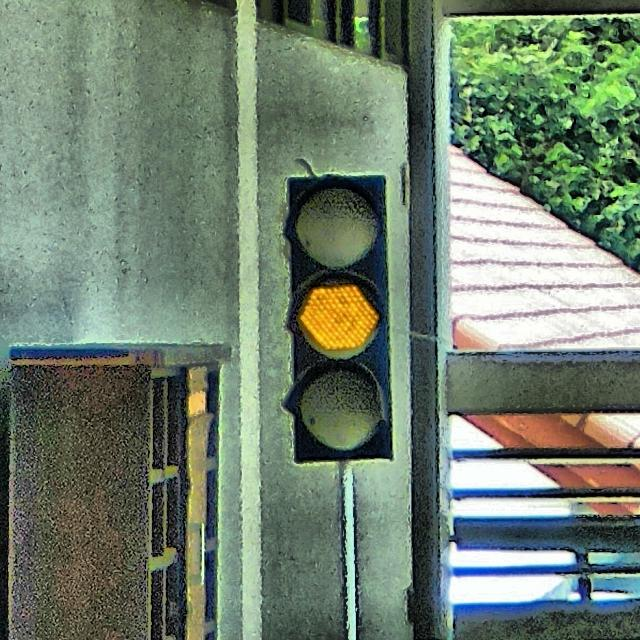yellow: (280, 176, 396, 461)
